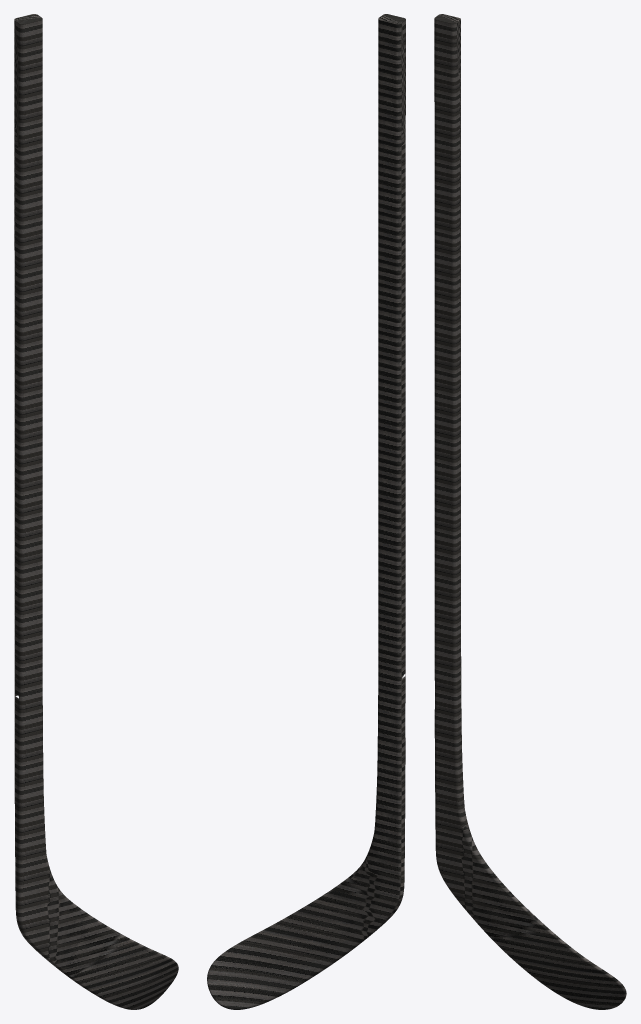
The picture shows the model from 3 angles, left to right: view 1: azimuth 30°, elevation 25°; view 2: azimuth 150°, elevation 25°; view 3: azimuth 330°, elevation 25°; orthographic projection. The views are drawn at different scales.
Visible parts, largest first — view 1: geometry_0; view 2: geometry_0; view 3: geometry_0.
Boxes of the visible parts, x1,y1,x2,y2 form: geometry_0: [14, 14, 178, 1009]; geometry_0: [207, 14, 405, 1009]; geometry_0: [434, 14, 626, 1009].
Bounding box in the file's own units: 231 × 1266 × 65.38.
1 material, 1 textured.
